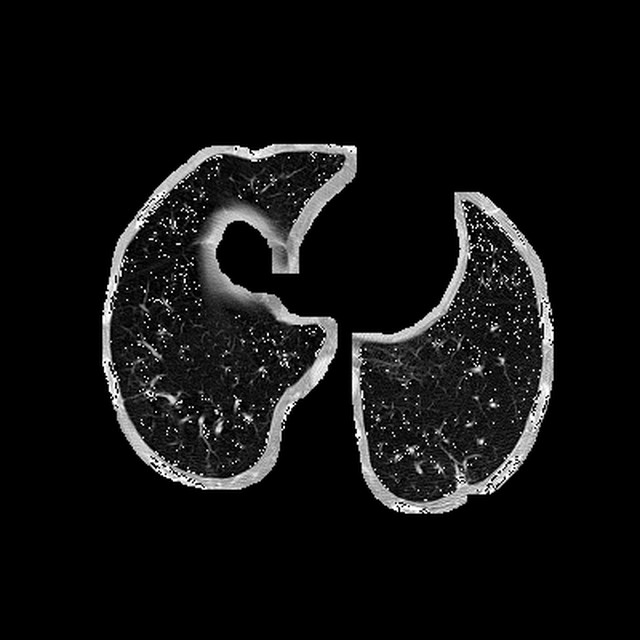PN: (142, 387, 155, 400)
